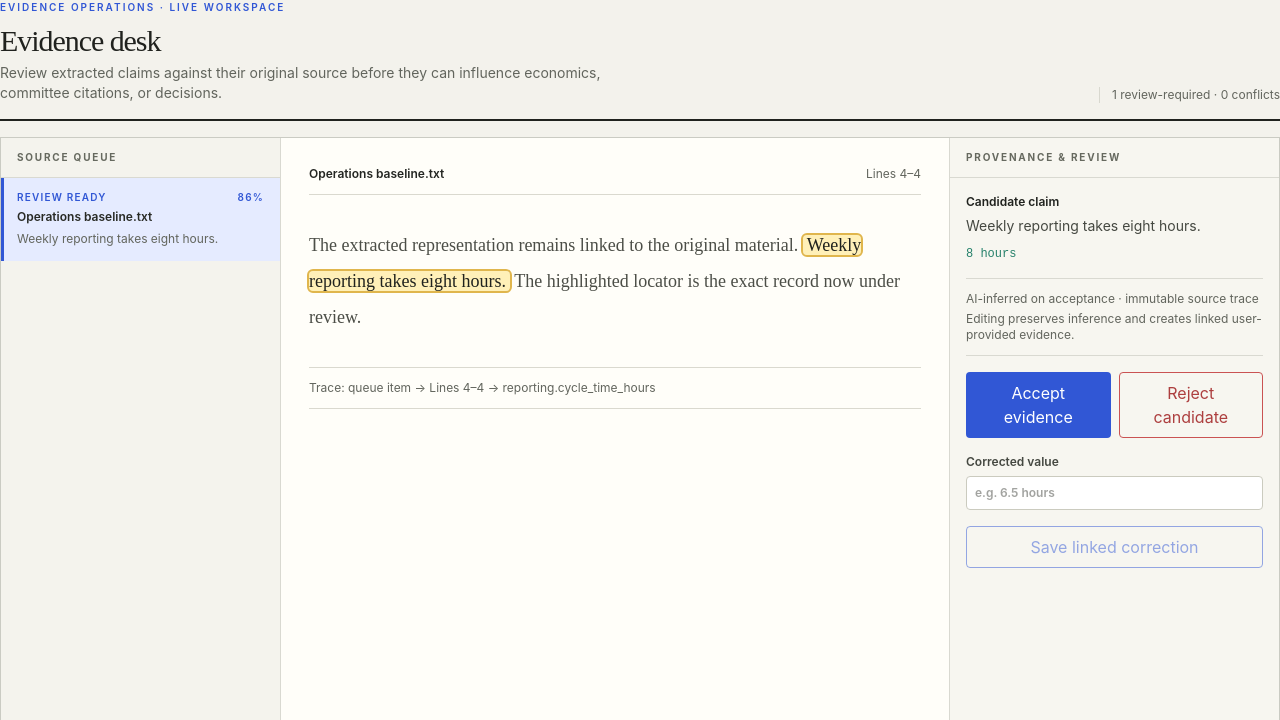
Test: EvidenceWorkbench › posts a persisted rejection rather than only changing the local queue
Click the button "Reject candidate".
click(1191, 405)  # box [1118, 372, 1263, 438]
(page scrolled)
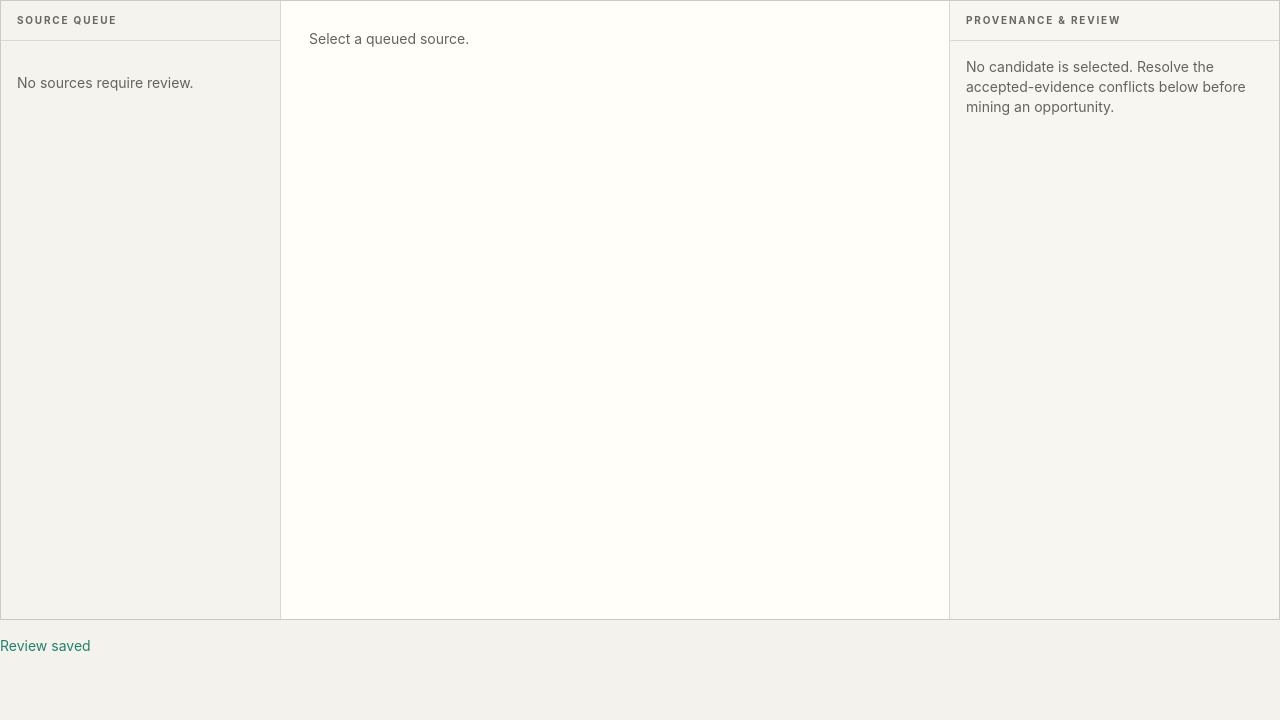
Check: the text "Review saved" is shown, box [0, 637, 91, 654]
